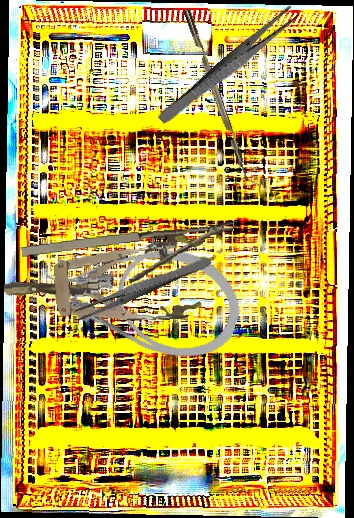Cannula: (34, 211, 253, 375)
Chopper: (183, 5, 261, 192)
Dressing Forceps: (156, 3, 301, 130), (71, 251, 214, 324)
Needle Holder: (20, 221, 242, 292)
Speculum: (1, 231, 208, 331)
